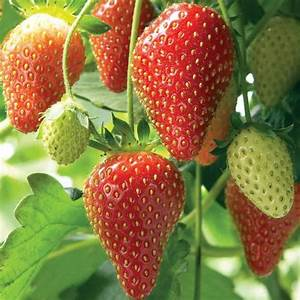Fresa: (128, 2, 243, 166), (81, 143, 194, 300), (1, 1, 91, 138), (223, 171, 300, 283), (86, 1, 168, 96)
